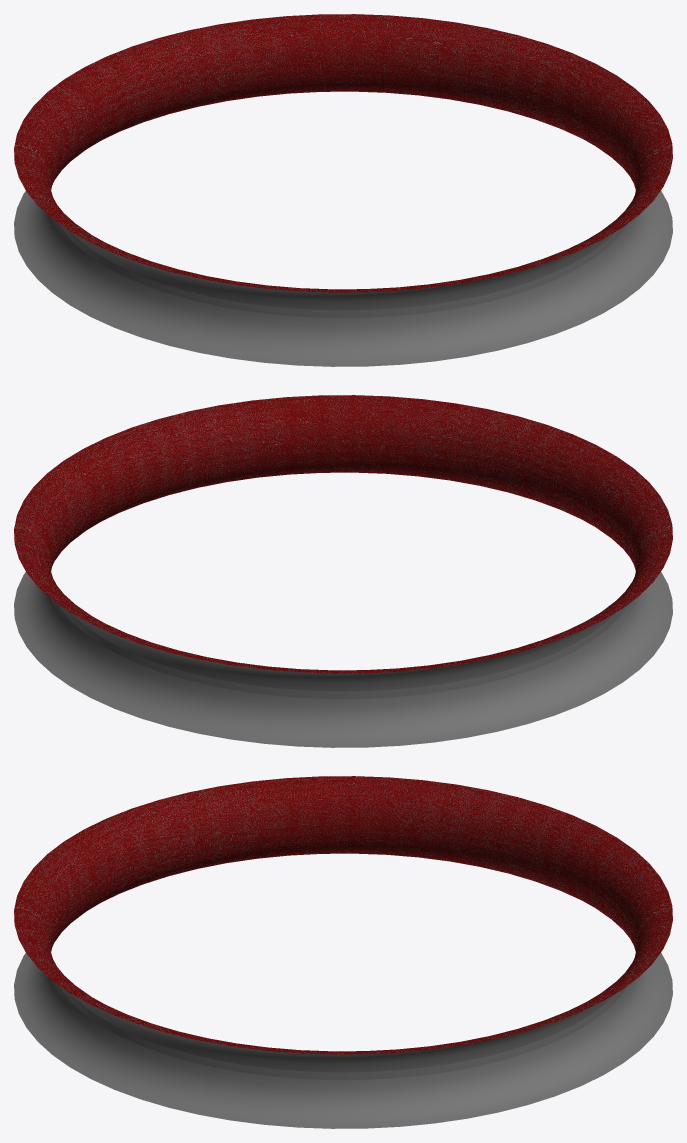
The model's file is original-42.obj.
The picture shows the model from 3 angles, top to bottom: view 1: azimuth 30°, elevation 25°; view 2: azimuth 150°, elevation 25°; view 3: azimuth 270°, elevation 25°; orthographic projection.
Parts seen in each view (by area): view 1: #ID247; view 2: #ID247; view 3: #ID247.
Boxes of the visible parts, x1,y1,x2,y2 form: #ID247: (14,14,672,366); #ID247: (14,395,672,747); #ID247: (14,776,672,1128).
Bounding box in the file's own units: 0.3198 × 0.0397 × 0.3198.
